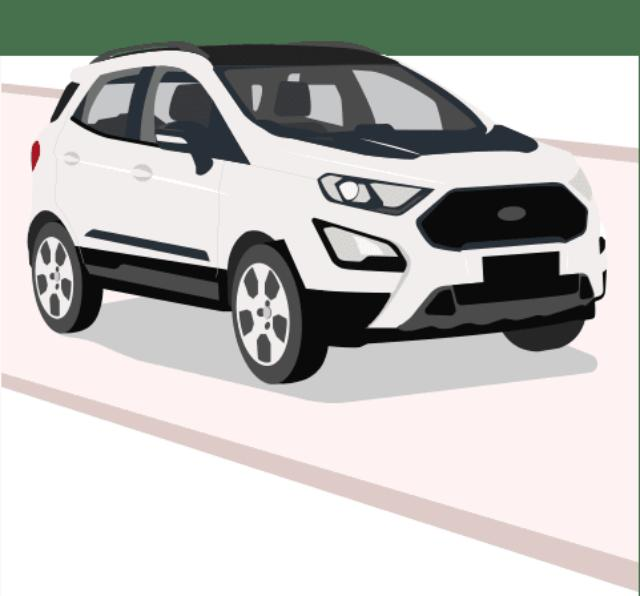ford: (23, 40, 609, 384)
